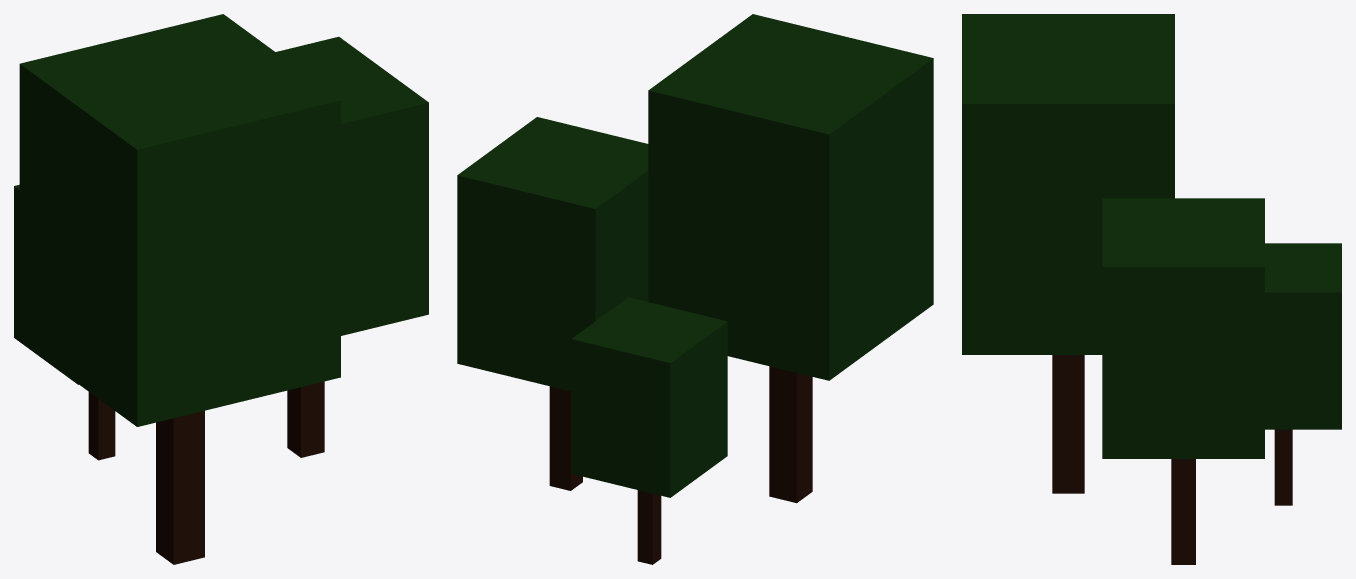
Rendered from tree.obj.
The picture shows the model from 3 angles, left to right: view 1: azimuth 30°, elevation 25°; view 2: azimuth 150°, elevation 25°; view 3: azimuth 270°, elevation 25°; orthographic projection. The views are drawn at different scales.
Parts seen in each view (by area): view 1: Cube.006_Cube.006_Material.010, Cube.006_Cube.006_Material.011; view 2: Cube.006_Cube.006_Material.010, Cube.006_Cube.006_Material.011; view 3: Cube.006_Cube.006_Material.010, Cube.006_Cube.006_Material.011.
Boxes of the visible parts, x1,y1,x2,y2 form: Cube.006_Cube.006_Material.010: [14, 14, 428, 426]; Cube.006_Cube.006_Material.011: [88, 381, 324, 564]; Cube.006_Cube.006_Material.010: [457, 14, 933, 497]; Cube.006_Cube.006_Material.011: [549, 366, 812, 564]; Cube.006_Cube.006_Material.010: [962, 14, 1341, 458]; Cube.006_Cube.006_Material.011: [1052, 355, 1292, 564].
Bounding box in the file's own units: 1.76 × 2.15 × 1.73.
